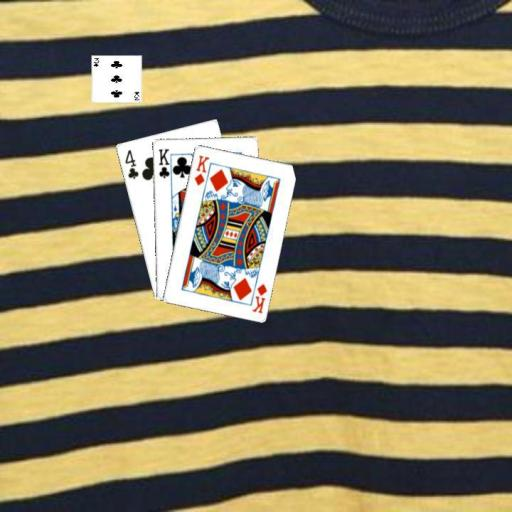4C: (122, 147, 140, 181)
KC: (155, 146, 174, 182)
KD: (191, 151, 211, 187), (249, 280, 269, 314)
